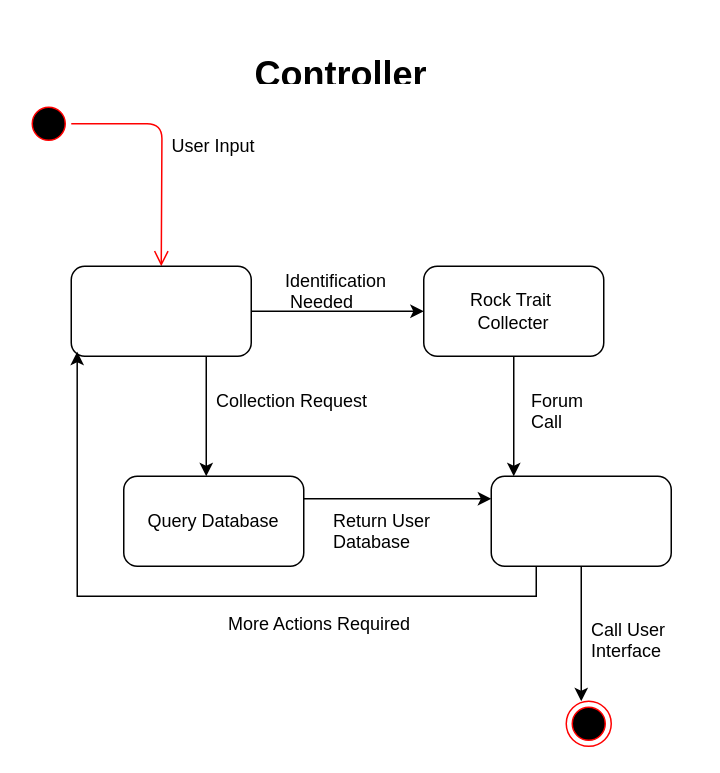
This 720x773 diagram has some shape labels left out. The shapes that lost their labels are listed below. From the top down, each one's box as (x1, y1, x2, y2) in pixels, then its label:
(70, 265, 251, 356): Input Parser
(490, 475, 671, 566): Action Desider
